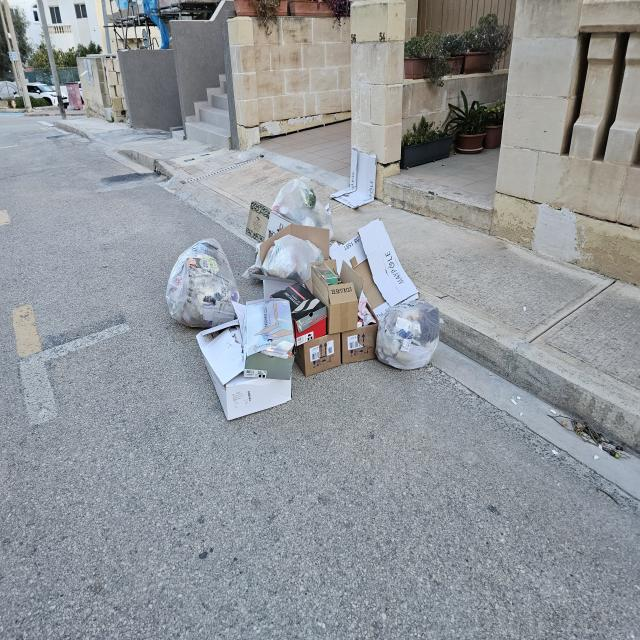grey_bag: (165, 237, 241, 321), (376, 300, 440, 370), (277, 177, 333, 227), (264, 240, 322, 276)
other_waste: (195, 303, 289, 420), (274, 272, 374, 376), (328, 219, 419, 300)
